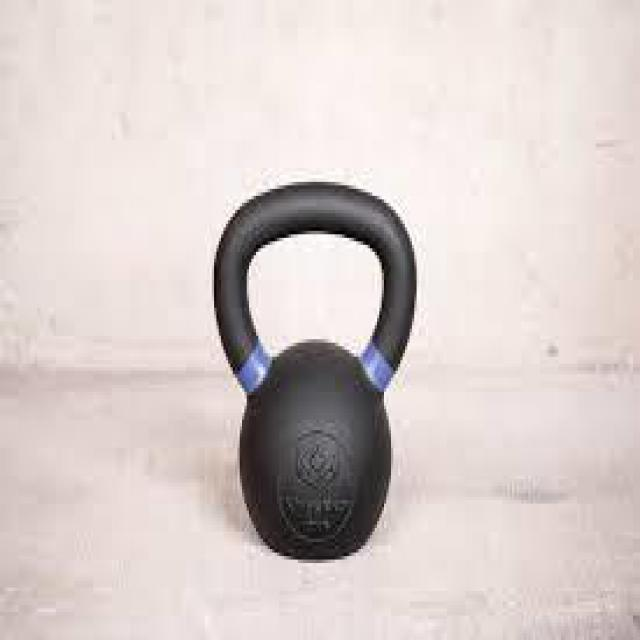Kettlebell: (195, 161, 426, 577)
